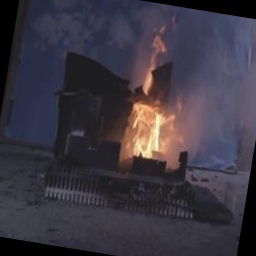fire: (118, 30, 197, 164)
